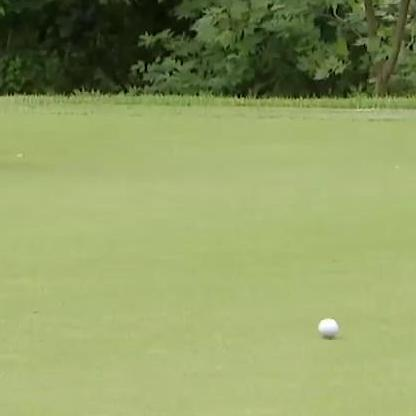golfball: (315, 315, 338, 338)
